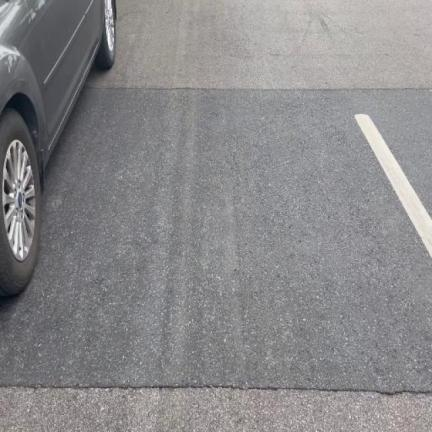Road: (0, 0, 431, 430)
